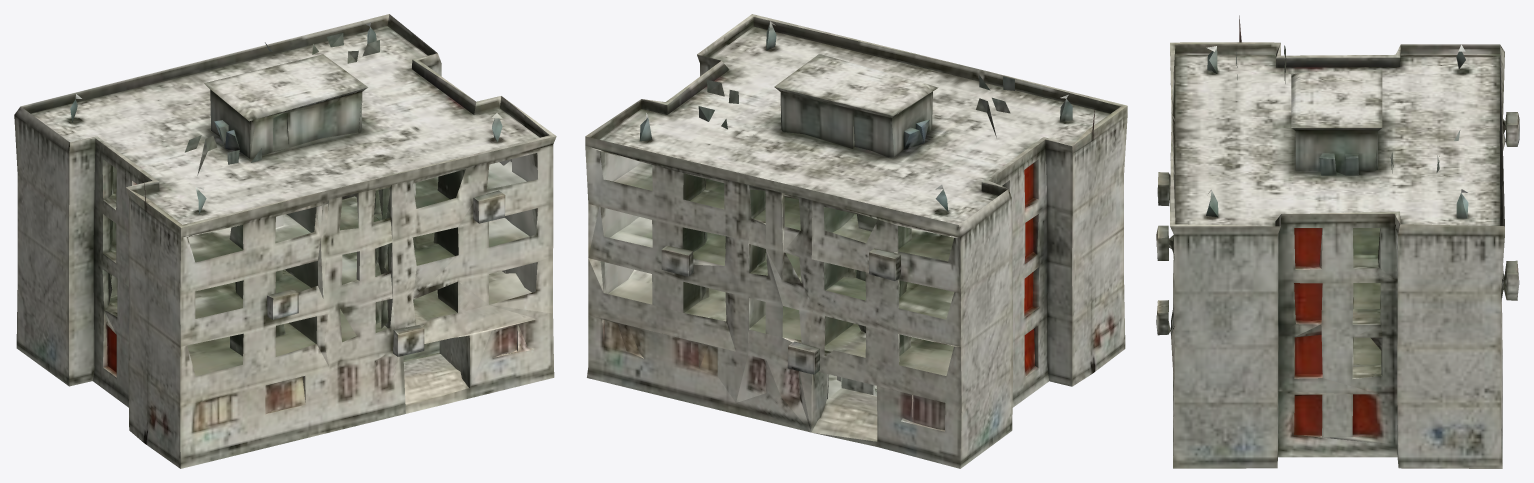
The model's file is block_white.glb.
The picture shows the model from 3 angles, left to right: view 1: azimuth 30°, elevation 25°; view 2: azimuth 150°, elevation 25°; view 3: azimuth 270°, elevation 25°; orthographic projection.
Parts seen in each view (by area): view 1: block_white; view 2: block_white; view 3: block_white.
Boxes of the visible parts, <box> form: block_white: <box>14,14,556,468</box>; block_white: <box>585,14,1127,468</box>; block_white: <box>1156,15,1519,468</box>.
Bounding box in the file's own units: 1.88 × 1.32 × 1.56.
1 material, 1 textured.
